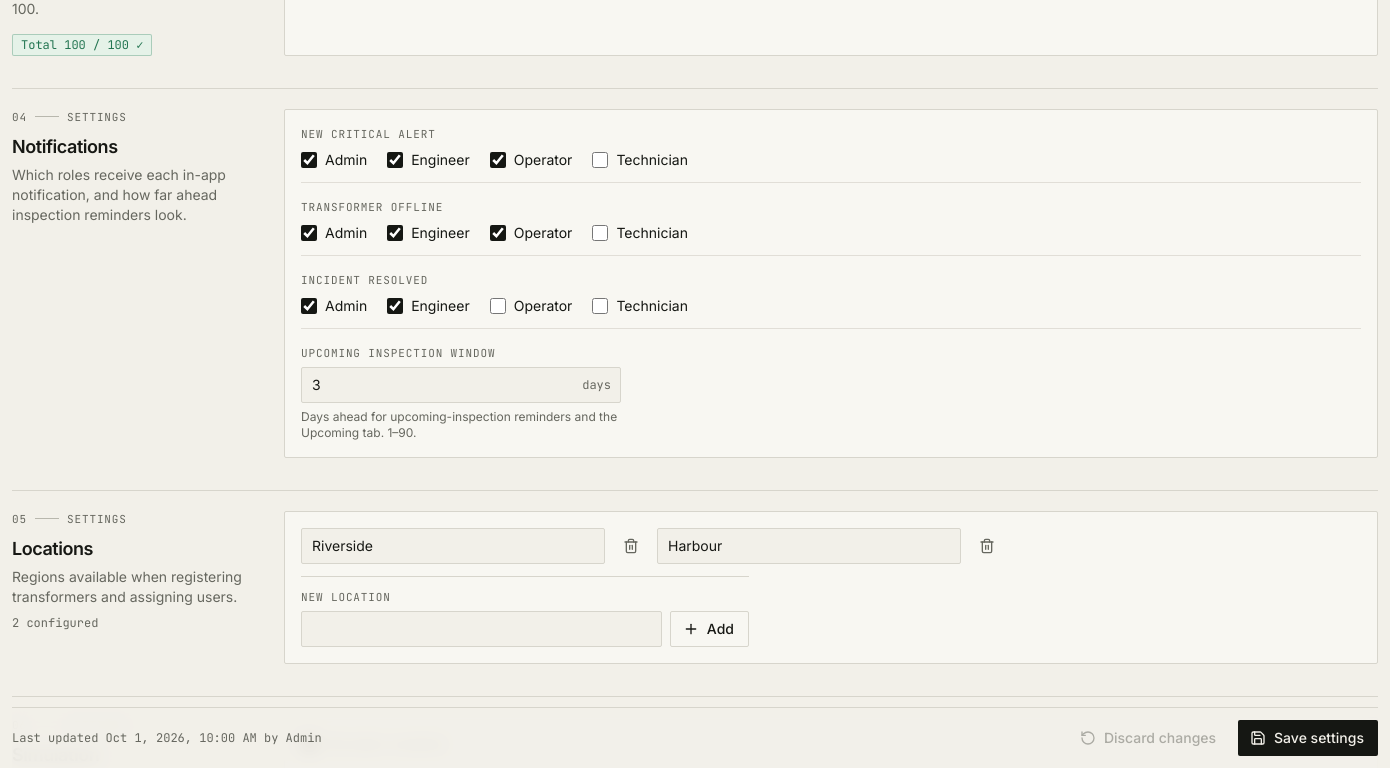
SettingsPage › saves valid changes and maps server field errors onto inputs
(page scrolled)
Replace the text in the number field labelled "Upcoming inspection window" with "7". click: (461, 384)
box: x1=301 y1=366 x2=621 y2=402
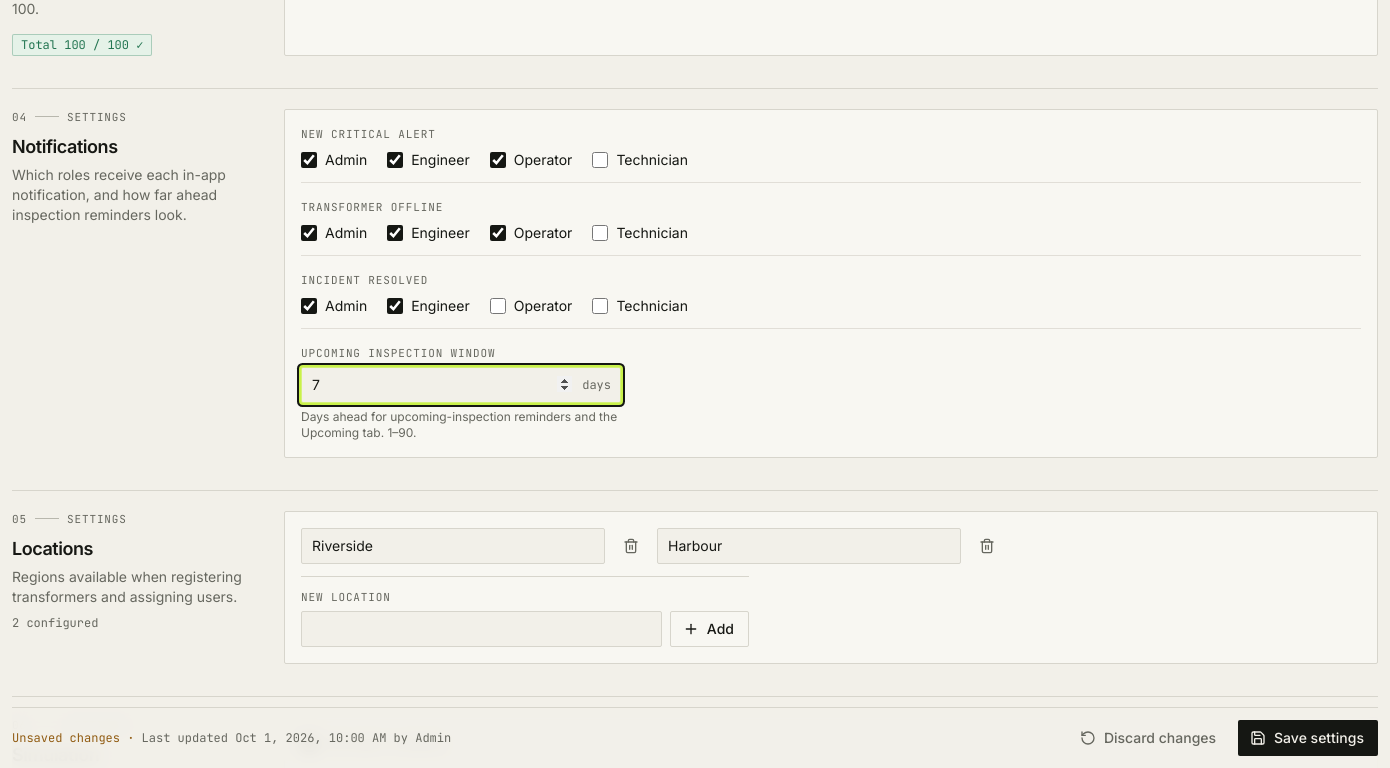
Click the button "Save settings". click: (1308, 738)
box: x1=1238 y1=720 x2=1378 y2=756
(page scrolled)
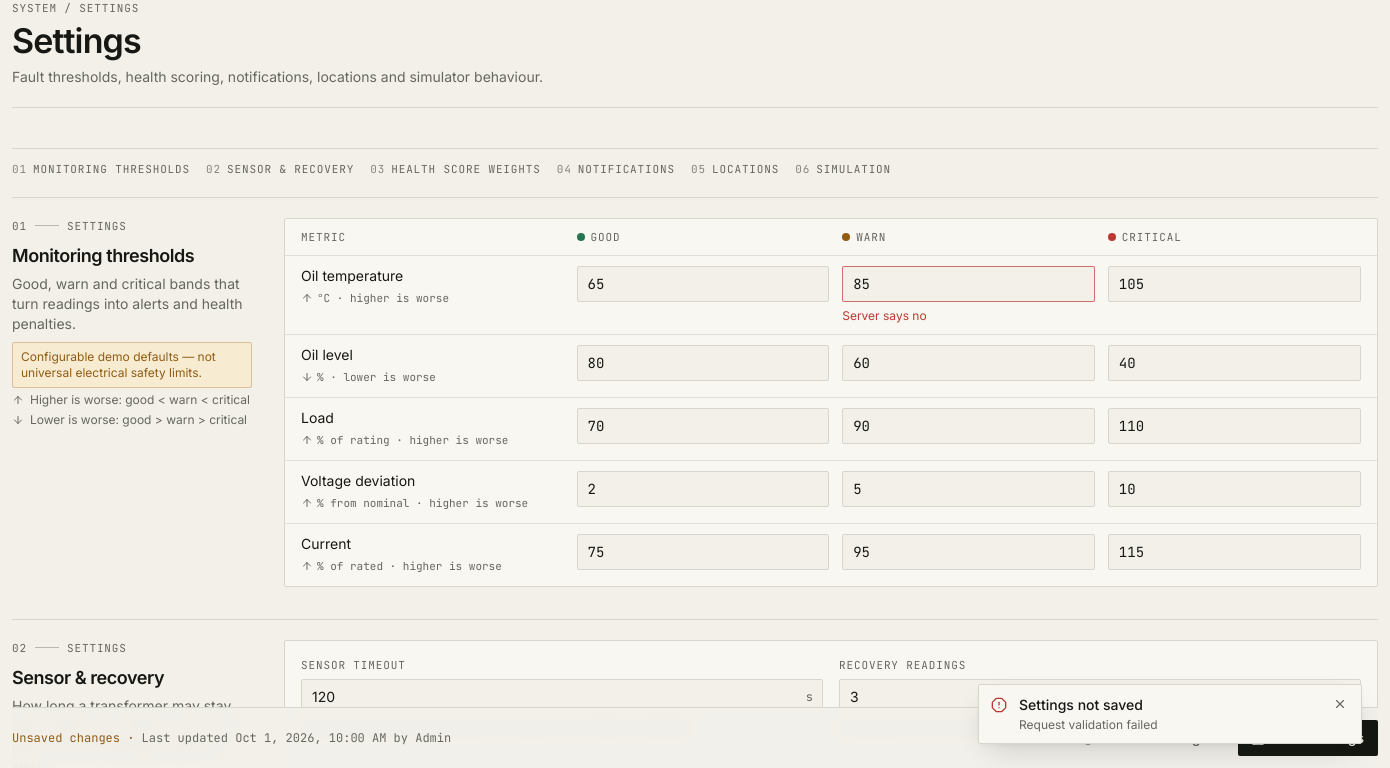
Result: the text "Server says no" is shown at x1=842 y1=308 x2=927 y2=322
